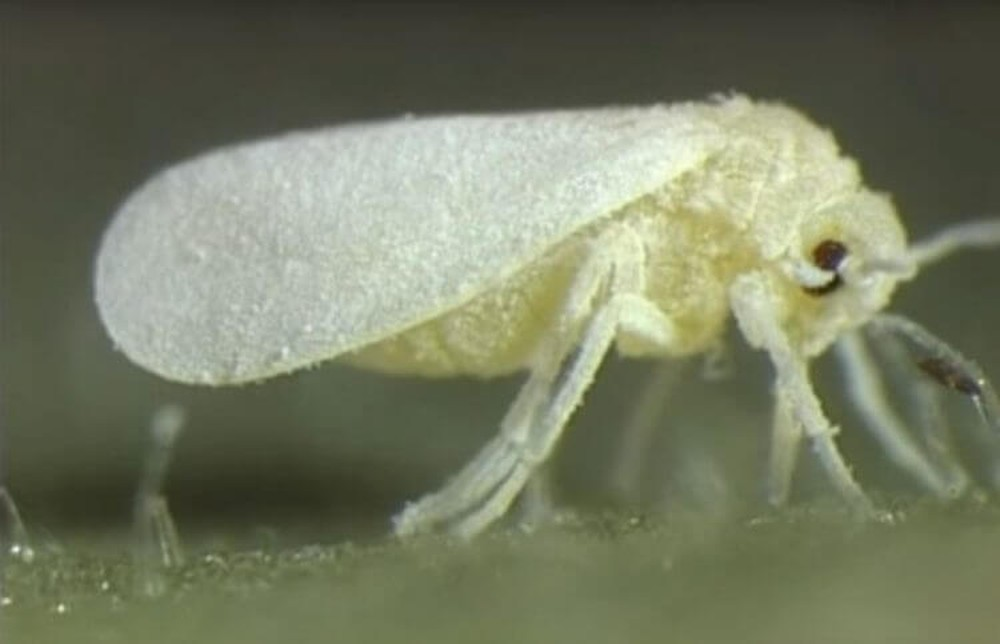Mosca Blanca: (91, 68, 993, 545)
